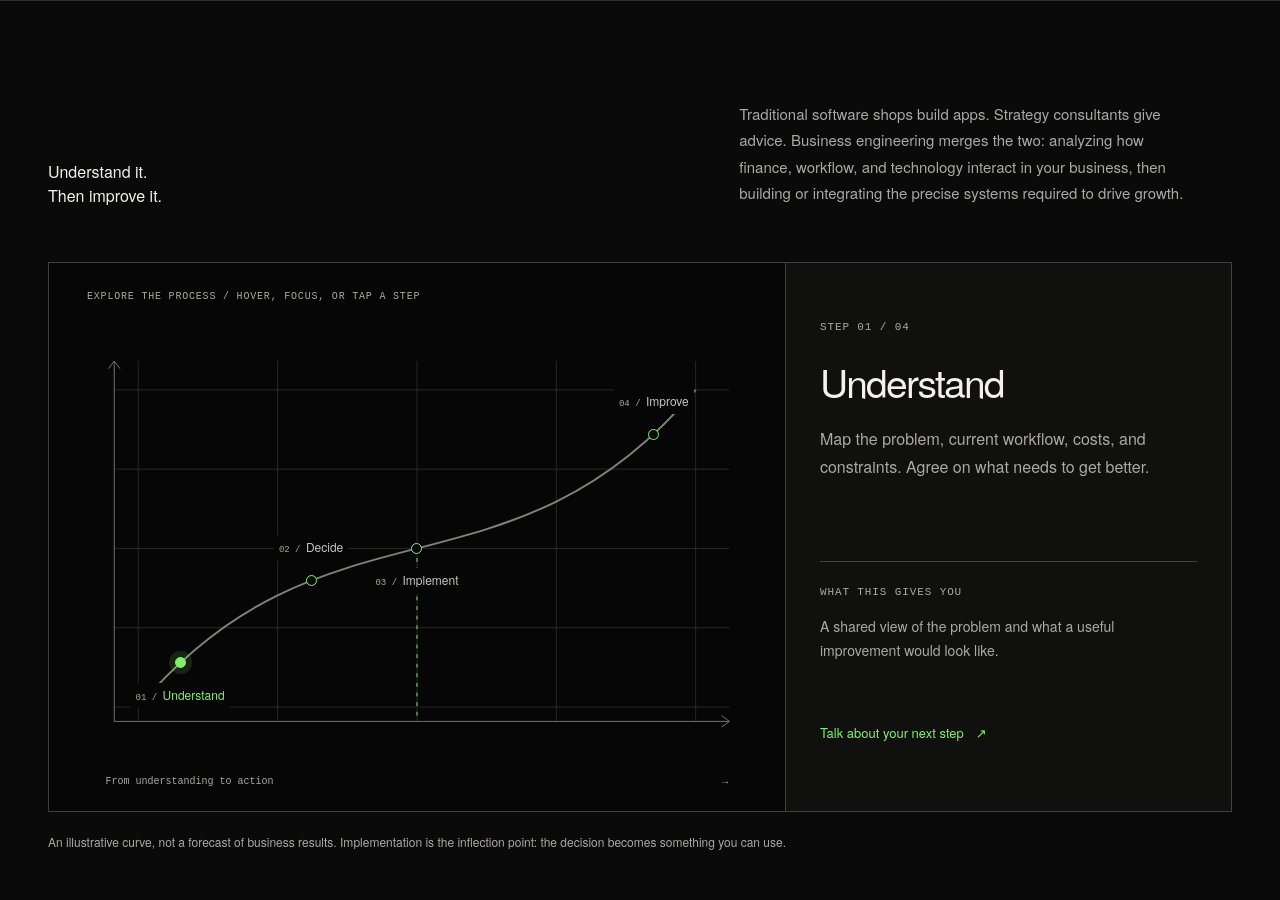
interactive approach curve › updates the detail panel on hover and tap
This screenshot has width=1280, height=900.
Hover over the tab "02 / Decide" at (311, 581), box [289,559,333,603]
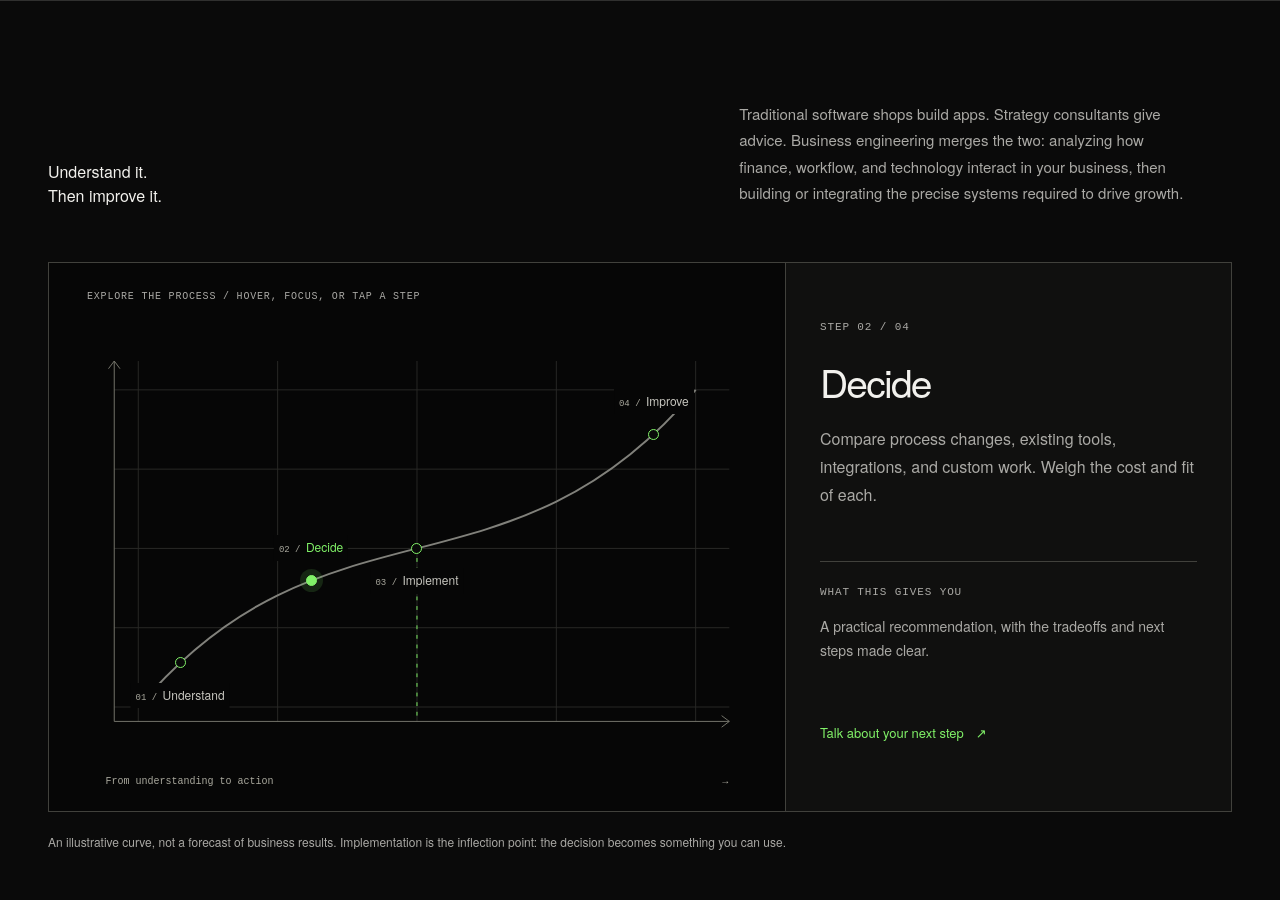
Click the tab "03 / Implement". click: (417, 548)
box: [395,526,439,570]
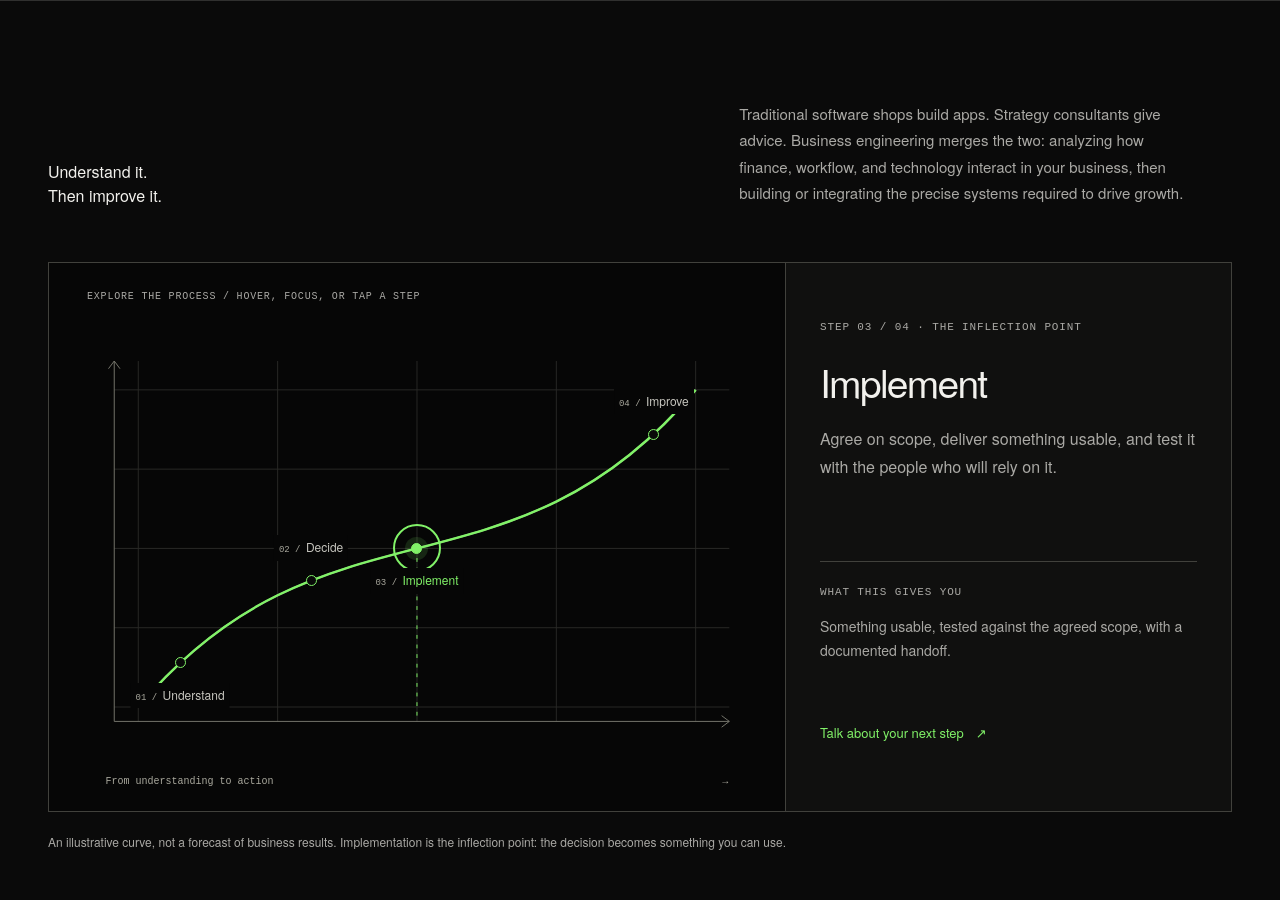
Now the text "Step 03 / 04 · The inflection point" is shown, box [820,321,1082,333]
